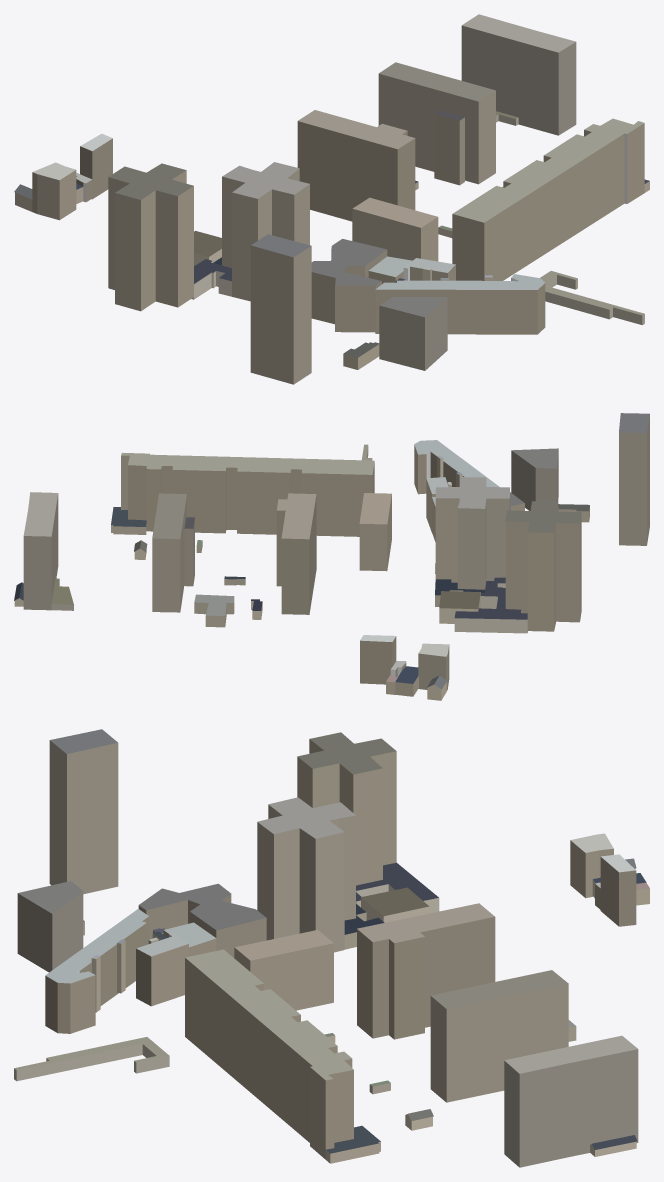
3 renders of one model, top to bottom at view 1: azimuth 30°, elevation 25°; view 2: azimuth 150°, elevation 25°; view 3: azimuth 270°, elevation 25°, orthographic. The views are drawn at different scales.
Visible parts, largest first — view 1: tuile; view 2: tuile; view 3: tuile.
Boxes of the visible parts, x1,y1,x2,y2 form: tuile: [14, 14, 649, 384]; tuile: [14, 413, 649, 700]; tuile: [14, 729, 649, 1167].
Bounding box in the file's own units: 274 × 68.24 × 247.
